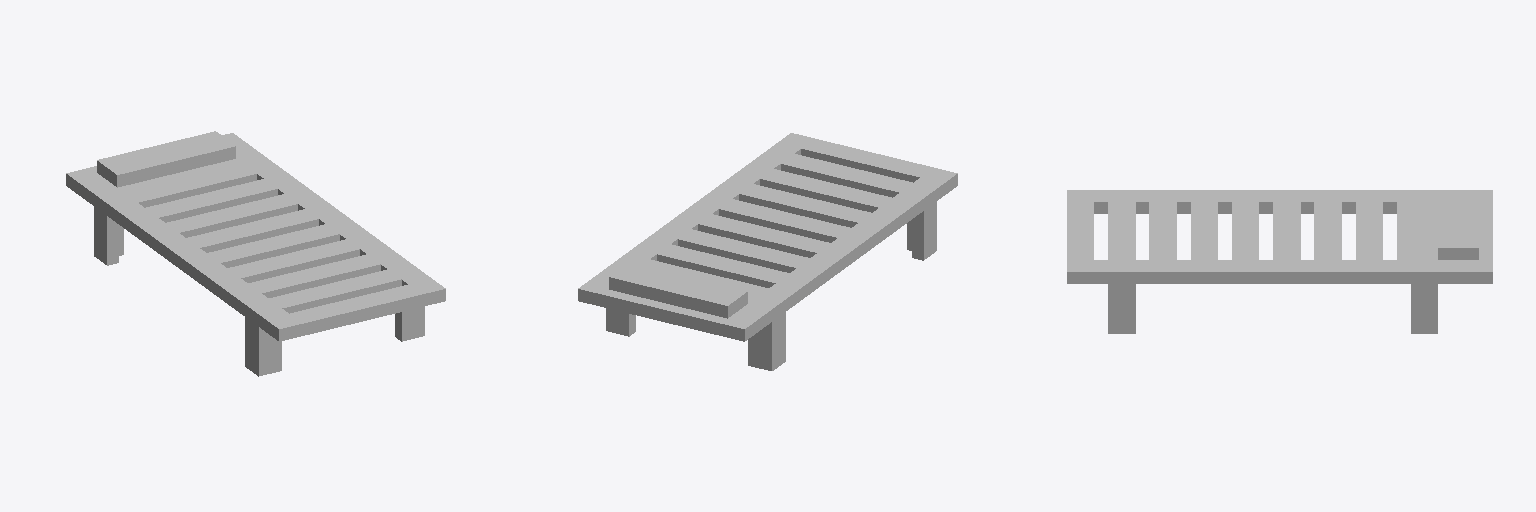
Rendered from BeachChair.obj.
The picture shows the model from 3 angles: view 1: azimuth 30°, elevation 25°; view 2: azimuth 150°, elevation 25°; view 3: azimuth 270°, elevation 25°; orthographic projection.
Visible parts, largest first — view 1: object 1; view 2: object 1; view 3: object 1.
Boxes of the visible parts, x1,y1,x2,y2 form: object 1: [66, 131, 445, 376]; object 1: [578, 133, 957, 370]; object 1: [1067, 190, 1492, 333].
Size of the model in its own units: 1.4 by 0.6 by 3.1.